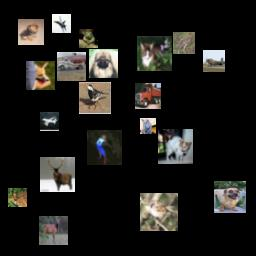airplane: (203, 50, 225, 72), (52, 14, 71, 33), (40, 112, 59, 131)
bird: (140, 193, 178, 231), (87, 130, 122, 165), (79, 82, 111, 114)
cat: (158, 129, 193, 164), (137, 36, 172, 71), (140, 118, 156, 134)
deer: (40, 157, 75, 192), (39, 216, 68, 245)
dog: (214, 181, 246, 213), (26, 61, 55, 90), (89, 49, 118, 78), (18, 19, 44, 45)
frog: (173, 32, 195, 54), (79, 29, 98, 48), (8, 188, 27, 207)
truck: (57, 52, 86, 81), (135, 83, 161, 109)
